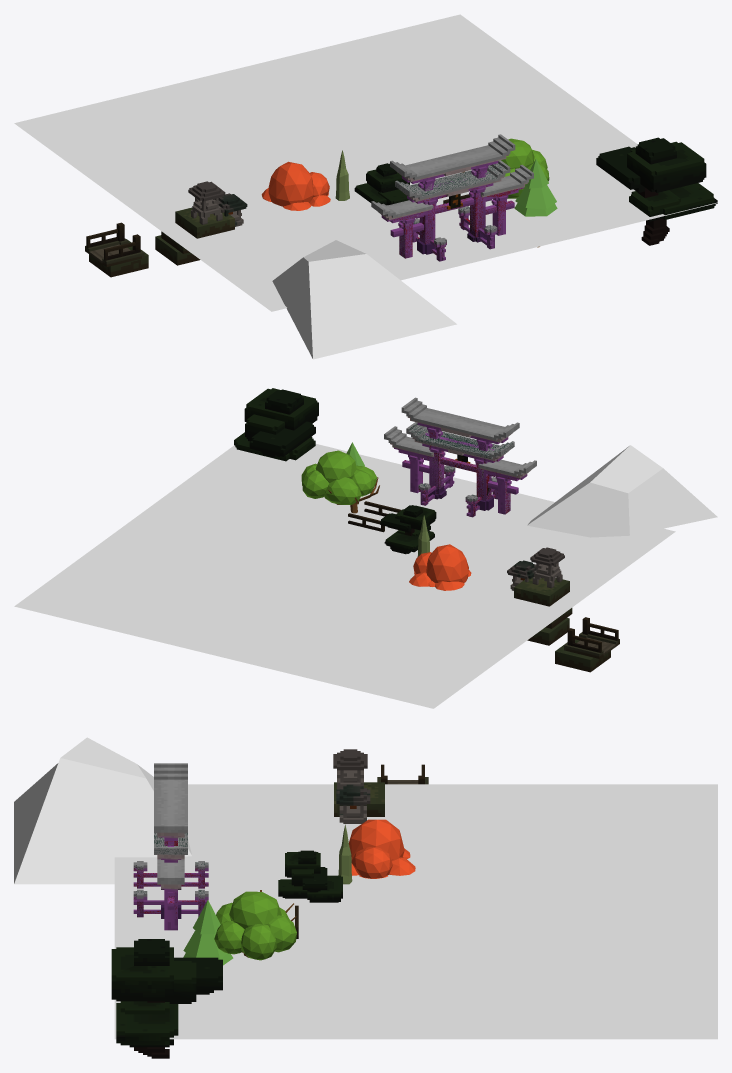
3 renders of one model, top to bottom at view 1: azimuth 30°, elevation 25°; view 2: azimuth 150°, elevation 25°; view 3: azimuth 270°, elevation 25°, orthographic. The views are drawn at different scales.
Visible parts, largest first — view 1: Plane, Cube, 2022 Torii (Wheezy Woods)-19Cleaned, 2022 Torii (Wheezy Woods)-3Cleaned, 2022 Torii (Wheezy Woods)-2Cleaned, Maple Tree, 2022 Torii (Wheezy Woods)-18Cleaned, 2022 Torii (Wheezy Woods)-20Cleaned, Pine Tree, Toro 01 CLEANED, 2022 Torii (Wheezy Woods)-14Cleaned, 2022 Torii (Wheezy Woods)-21Cleaned (+4 smaller); view 2: Plane, Cube, 2022 Torii (Wheezy Woods)-3Cleaned, 2022 Torii (Wheezy Woods)-19Cleaned, 2022 Torii (Wheezy Woods)-2Cleaned, Oak Tree, Maple Tree, 2022 Torii (Wheezy Woods)-20Cleaned, 2022 Torii (Wheezy Woods)-18Cleaned, 2022 Torii (Wheezy Woods)-21Cleaned, 2022 Torii (Wheezy Woods)-14Cleaned, Toro 01 CLEANED (+4 smaller); view 3: Plane, Cube, 2022 Torii (Wheezy Woods)-19Cleaned, Oak Tree, 2022 Torii (Wheezy Woods)-3Cleaned, Maple Tree, 2022 Torii (Wheezy Woods)-20Cleaned, 2022 Torii (Wheezy Woods)-2Cleaned, Pine Tree, 2022 Torii (Wheezy Woods)-15Cleaned, Toro 01 CLEANED, 2022 Torii (Wheezy Woods)-14Cleaned (+2 smaller).
Part boxes in pixels (x1,y1,x2,y2): Plane: (14,14,717,311); Cube: (272,240,456,359); 2022 Torii (Wheezy Woods)-19Cleaned: (596,137,717,245); 2022 Torii (Wheezy Woods)-3Cleaned: (371,134,533,258); 2022 Torii (Wheezy Woods)-2Cleaned: (395,160,510,261); Maple Tree: (261,161,330,210); 2022 Torii (Wheezy Woods)-18Cleaned: (85,222,144,266); 2022 Torii (Wheezy Woods)-20Cleaned: (354,163,409,205); Pine Tree: (514,158,557,247); Toro 01 CLEANED: (188,181,225,224); 2022 Torii (Wheezy Woods)-14Cleaned: (175,207,234,238); 2022 Torii (Wheezy Woods)-21Cleaned: (397,164,506,259); Plane: (14,444,675,708); Cube: (527,445,717,537); 2022 Torii (Wheezy Woods)-3Cleaned: (384,397,536,514); 2022 Torii (Wheezy Woods)-19Cleaned: (234,388,318,461); 2022 Torii (Wheezy Woods)-2Cleaned: (406,422,514,517); Oak Tree: (301,450,377,504); Maple Tree: (409,544,471,590); 2022 Torii (Wheezy Woods)-20Cleaned: (380,505,436,554); 2022 Torii (Wheezy Woods)-18Cleaned: (564,617,619,658); 2022 Torii (Wheezy Woods)-21Cleaned: (409,425,512,516); 2022 Torii (Wheezy Woods)-14Cleaned: (514,577,569,606); Toro 01 CLEANED: (530,547,564,588); Plane: (114,784,717,1039); Cube: (14,737,192,884); 2022 Torii (Wheezy Woods)-19Cleaned: (111,939,222,1058); Oak Tree: (214,891,296,960); 2022 Torii (Wheezy Woods)-3Cleaned: (154,763,187,930); Maple Tree: (349,819,415,878); 2022 Torii (Wheezy Woods)-20Cleaned: (278,850,342,902); 2022 Torii (Wheezy Woods)-2Cleaned: (133,833,208,917); Pine Tree: (183,900,233,965); 2022 Torii (Wheezy Woods)-15Cleaned: (336,784,370,823); Toro 01 CLEANED: (333,749,367,789); 2022 Torii (Wheezy Woods)-14Cleaned: (334,782,384,816).
Bounding box in the file's own units: 30.15 × 8 × 31.46.
Materials: 37 (24 with a texture image).
